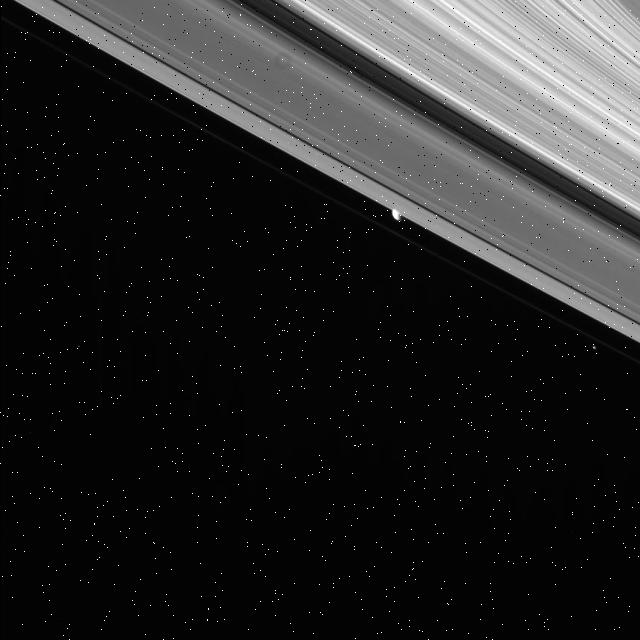Saturn: (0, 0, 640, 427)
